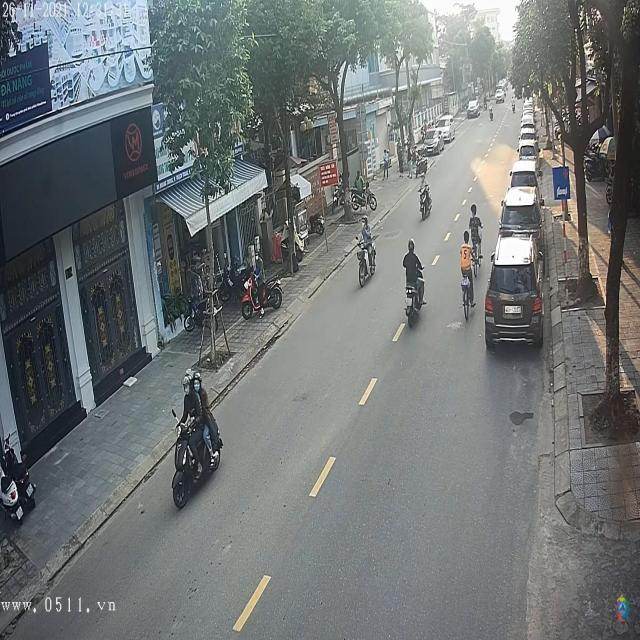car: (486, 232, 544, 348), (499, 190, 544, 238), (506, 163, 539, 200), (518, 124, 536, 142), (518, 146, 536, 162), (467, 98, 481, 117)
motorcycle: (172, 405, 223, 509), (355, 233, 378, 286), (403, 269, 426, 322)
